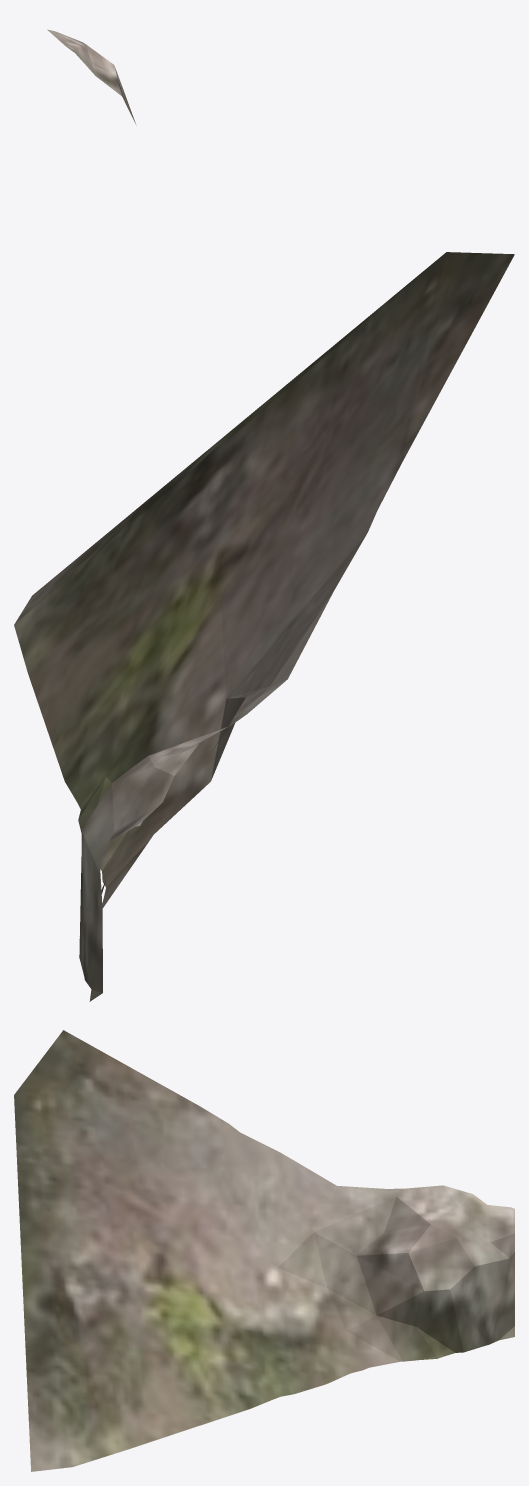
3 views of the same model, one above another, from view 1: azimuth 30°, elevation 25°; view 2: azimuth 150°, elevation 25°; view 3: azimuth 270°, elevation 25° (orthographic). The views are drawn at different scales.
Size of the model in its own units: 1.88 by 1.71 by 2.66.
Materials: 1 (1 with a texture image).
